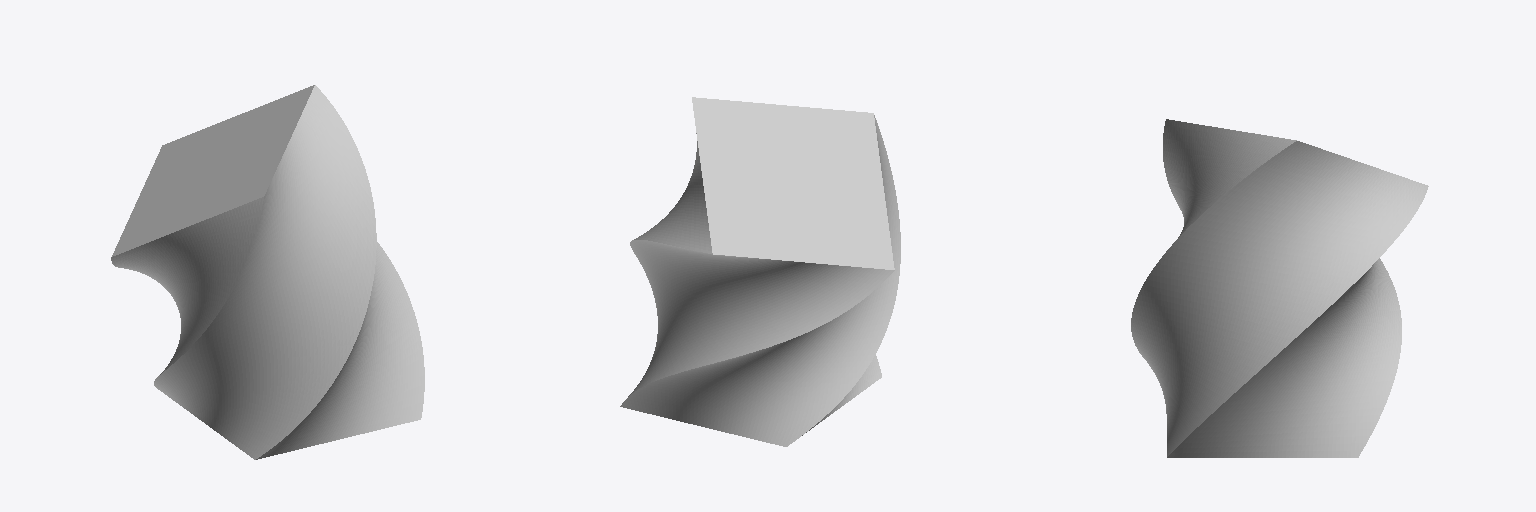
Rendered from twist.obj.
3 views of the same model, side by side, from view 1: azimuth 30°, elevation 25°; view 2: azimuth 150°, elevation 25°; view 3: azimuth 270°, elevation 25° (orthographic).
Visible parts, largest first — view 1: Cube; view 2: Cube; view 3: Cube.
Part boxes in pixels (bbox=[...]): Cube: bbox=[111, 85, 424, 459]; Cube: bbox=[620, 97, 900, 446]; Cube: bbox=[1131, 119, 1428, 457].
Bounding box in the file's own units: 1.63 × 1.71 × 1.55.